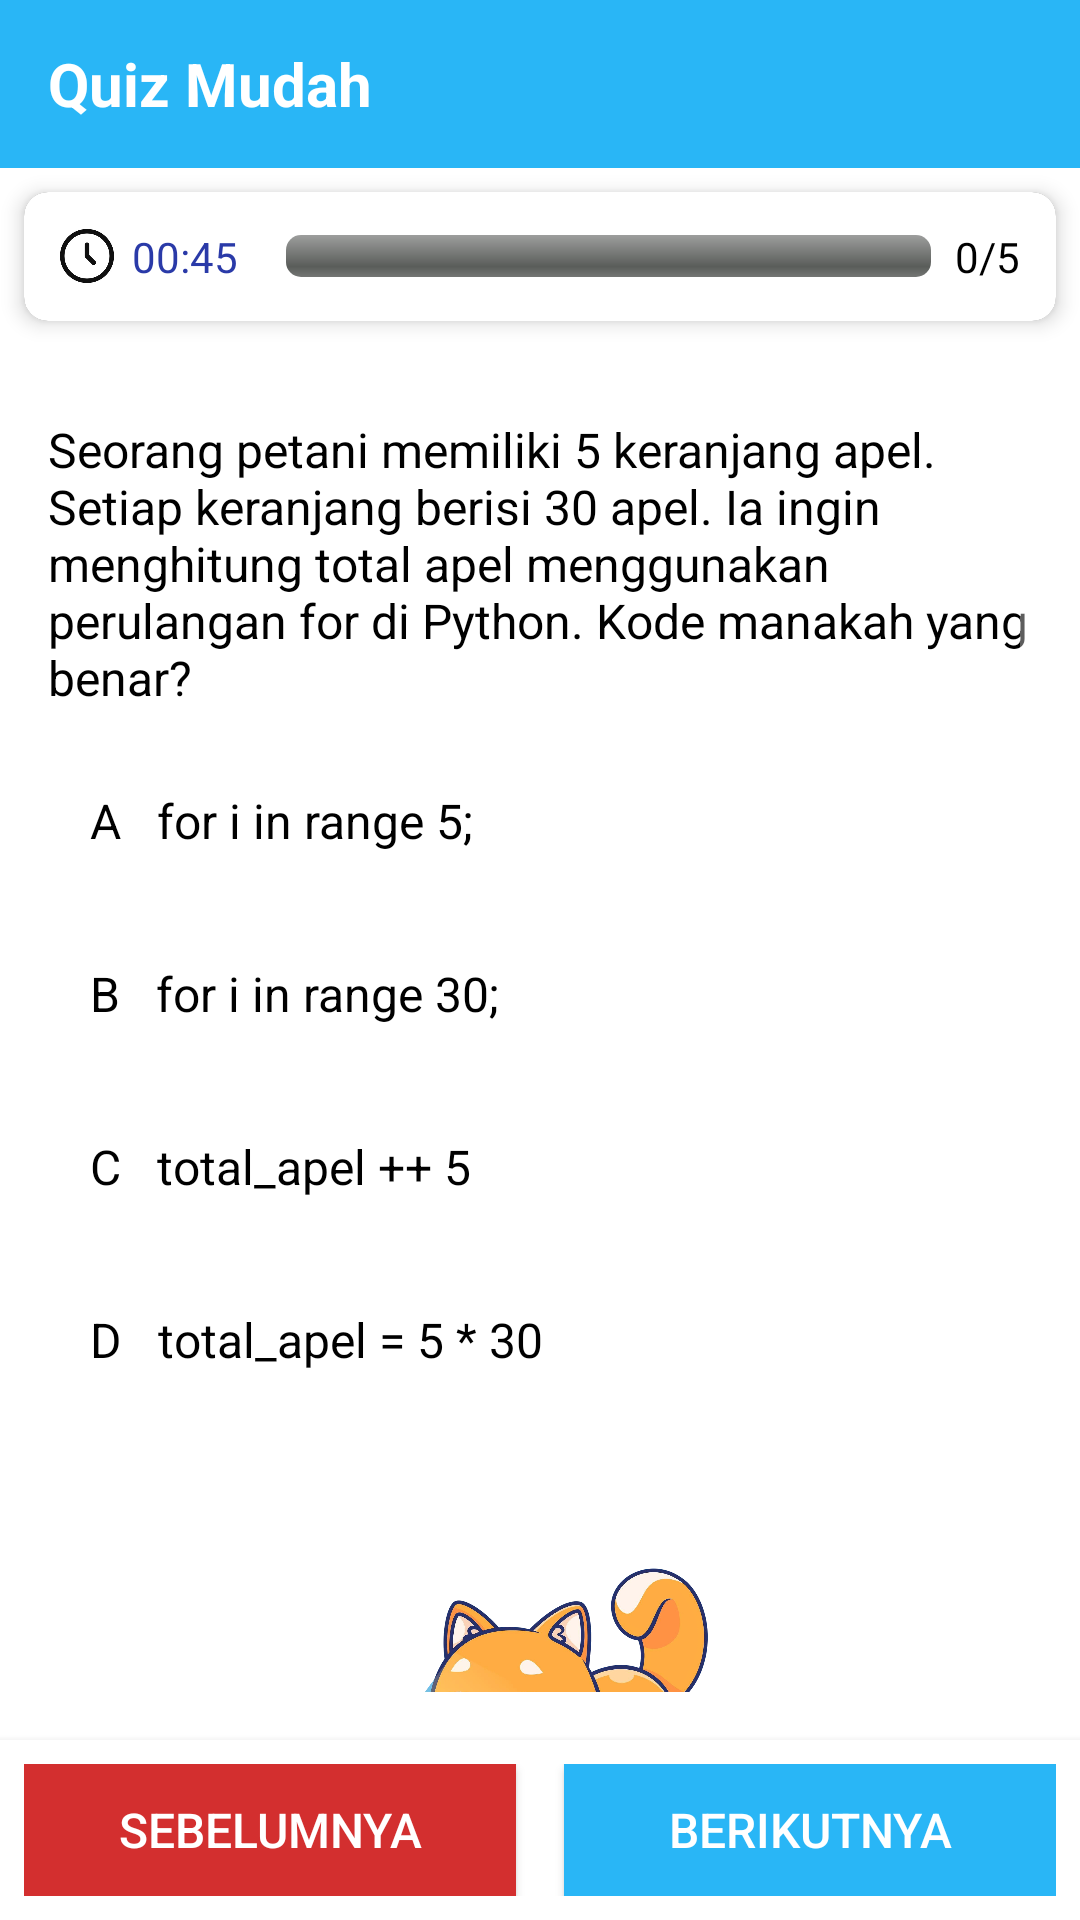

Where to tap for icons on this 1080*1920 app screen, as (x,y):
timer: (87,256)
